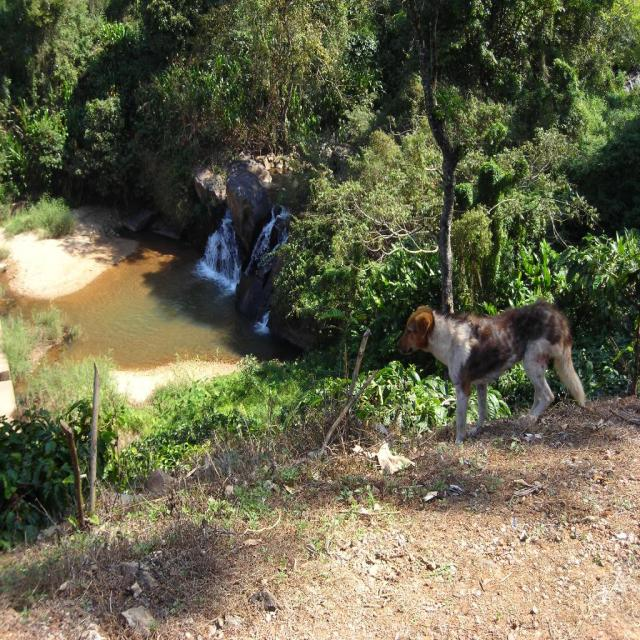Dog: (394, 297, 588, 444)
